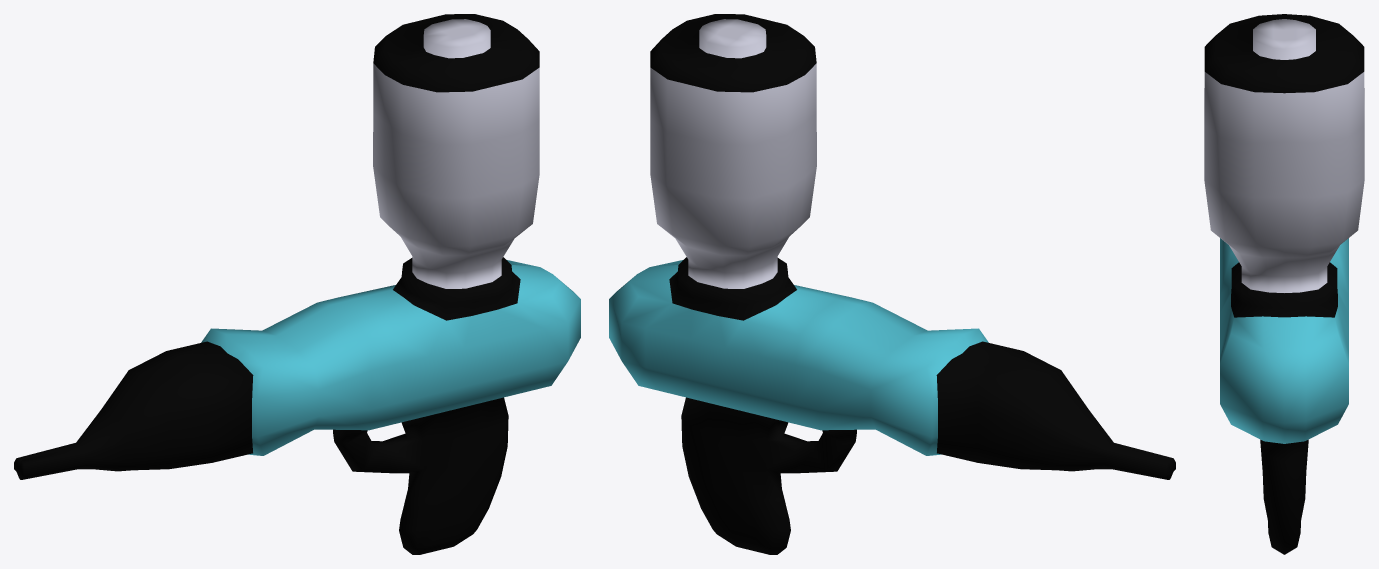
Rendered from ExportedBlenderFBXFile.fbx.
3 views of the same model, side by side, from view 1: azimuth 30°, elevation 25°; view 2: azimuth 150°, elevation 25°; view 3: azimuth 270°, elevation 25° (orthographic).
Parts seen in each view (by area): view 1: Cube; view 2: Cube; view 3: Cube.
Boxes of the visible parts, x1=… form: Cube: x1=14, y1=14, x2=580, y2=554; Cube: x1=609, y1=14, x2=1175, y2=554; Cube: x1=1204, y1=14, x2=1364, y2=554.
Bounding box in the file's own units: 5.54 × 4.88 × 1.36.
